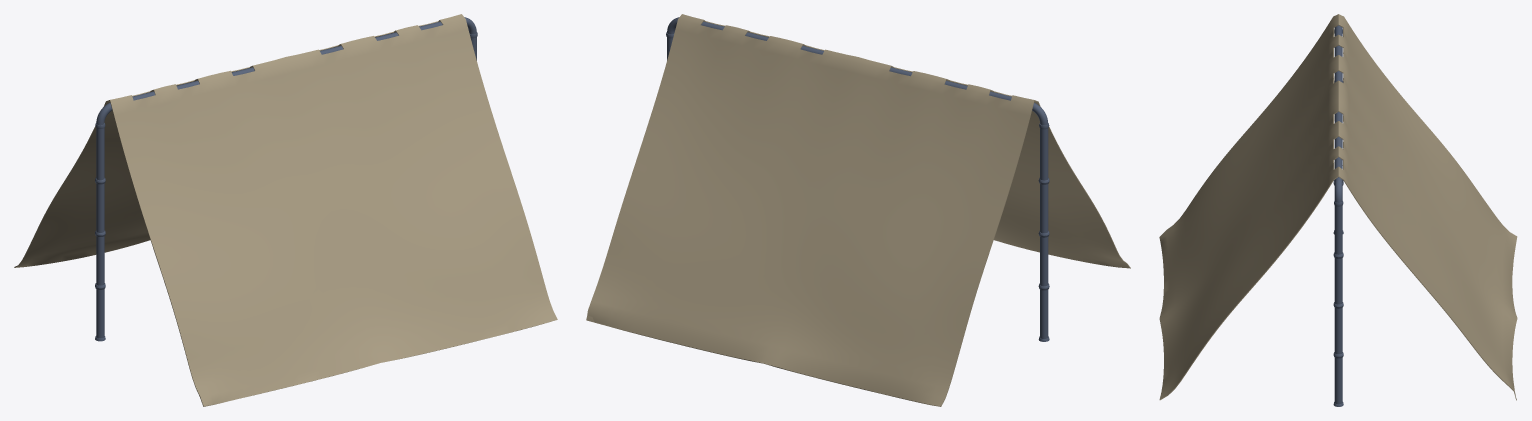
File: Tent_00.fbx
3 views of the same model, side by side, from view 1: azimuth 30°, elevation 25°; view 2: azimuth 150°, elevation 25°; view 3: azimuth 270°, elevation 25° (orthographic). The views are drawn at different scales.
Visible parts, largest first — view 1: Tent, Cylinder.002, Cylinder; view 2: Tent, Cylinder.002, Cylinder; view 3: Tent, Cylinder.001, Cylinder.
Part boxes in pixels (x1=…): Tent: x1=14, y1=14, x2=557, y2=406; Cylinder.002: x1=95, y1=128, x2=105, y2=341; Cylinder: x1=132, y1=21, x2=442, y2=100; Tent: x1=586, y1=14, x2=1130, y2=406; Cylinder.002: x1=1038, y1=128, x2=1049, y2=341; Cylinder: x1=701, y1=21, x2=1011, y2=100; Tent: x1=1159, y1=14, x2=1517, y2=400; Cylinder.001: x1=1333, y1=205, x2=1343, y2=406; Cylinder: x1=1334, y1=25, x2=1342, y2=181.
Size of the model in its own units: 1413 by 853 by 1216.
